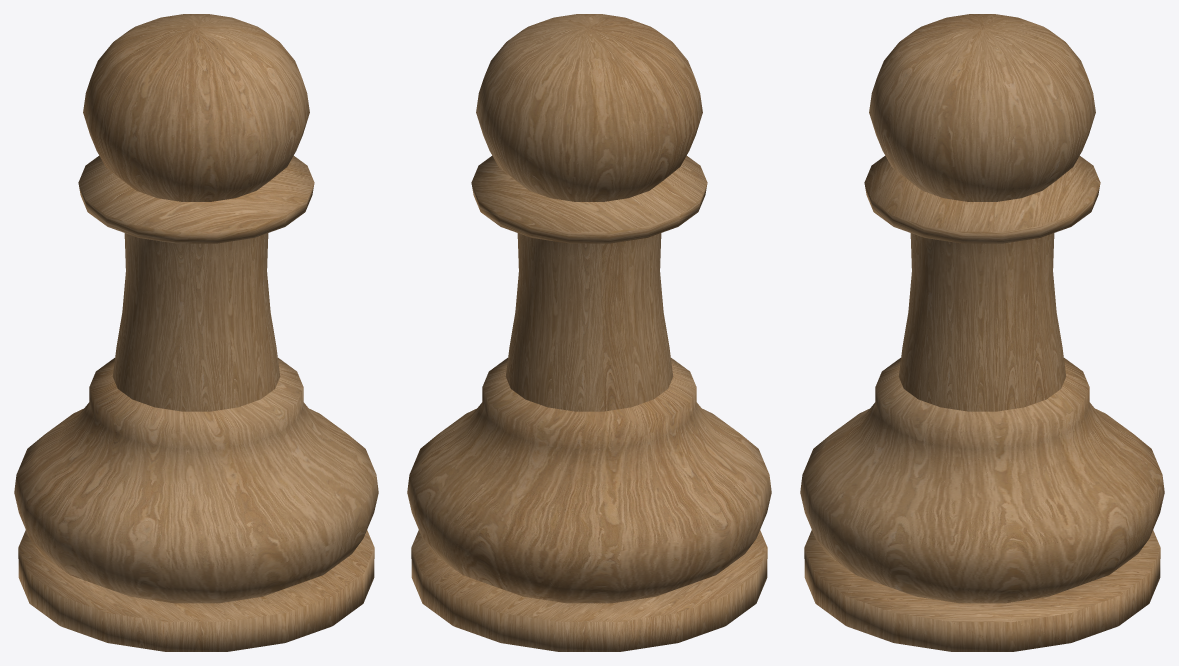
The model's file is white_pawn.obj.
3 renders of one model, left to right at view 1: azimuth 30°, elevation 25°; view 2: azimuth 150°, elevation 25°; view 3: azimuth 270°, elevation 25°, orthographic.
Visible parts, largest first — view 1: Pawn_W1_Material_007_0.001; view 2: Pawn_W1_Material_007_0.001; view 3: Pawn_W1_Material_007_0.001.
Boxes of the visible parts, box(x1,y1,x2,y2) form: Pawn_W1_Material_007_0.001: box(14, 14, 378, 651); Pawn_W1_Material_007_0.001: box(407, 14, 771, 651); Pawn_W1_Material_007_0.001: box(800, 14, 1164, 651).
Size of the model in its own units: 2.75 by 4.72 by 2.79.
